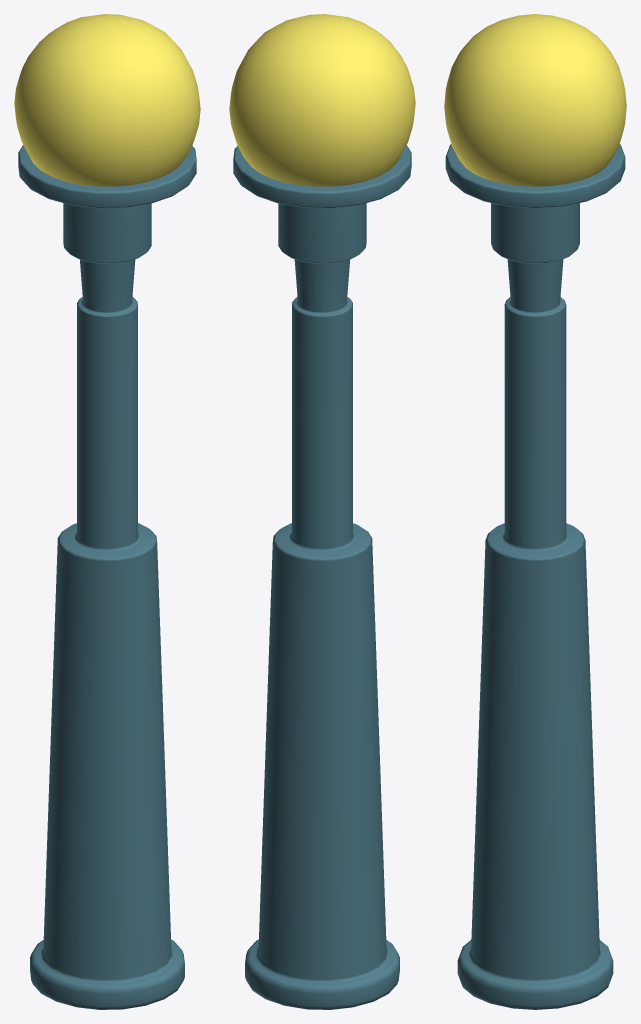
The model's file is Store_1_Street_Lamp_1.glb.
3 renders of one model, left to right at view 1: azimuth 30°, elevation 25°; view 2: azimuth 150°, elevation 25°; view 3: azimuth 270°, elevation 25°, orthographic.
Parts seen in each view (by area): view 1: Store_1_Street_Lamp_1; view 2: Store_1_Street_Lamp_1; view 3: Store_1_Street_Lamp_1.
Part boxes in pixels (x1,y1,x2,y2): Store_1_Street_Lamp_1: (14, 14, 200, 1009); Store_1_Street_Lamp_1: (229, 14, 415, 1009); Store_1_Street_Lamp_1: (444, 14, 626, 1009).
Size of the model in its own units: 0.7974 by 4.61 by 0.7974.
1 material, 1 textured.
